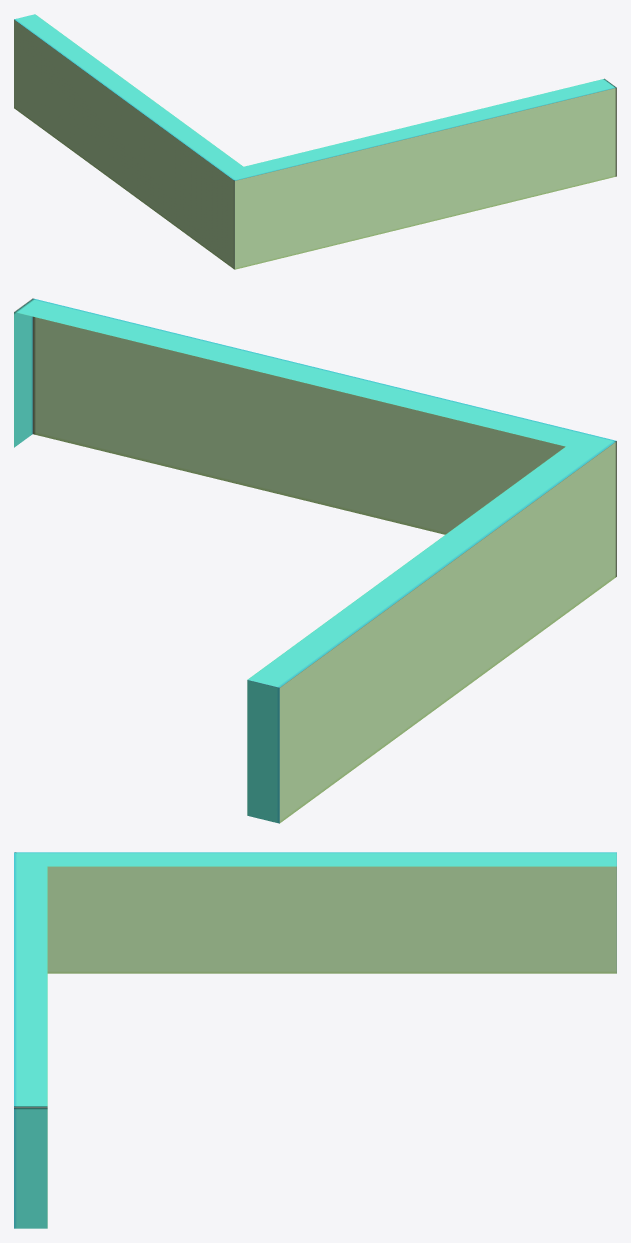
The model's file is MK_Floor_Trim_A_Corner_Out.fbx.
The picture shows the model from 3 angles, top to bottom: view 1: azimuth 30°, elevation 25°; view 2: azimuth 150°, elevation 25°; view 3: azimuth 270°, elevation 25°; orthographic projection. The views are drawn at different scales.
Visible parts, largest first — view 1: Floor_Trim_A_Corner_Out; view 2: Floor_Trim_A_Corner_Out; view 3: Floor_Trim_A_Corner_Out.
Part boxes in pixels (left/top/right/bottom): Floor_Trim_A_Corner_Out: left=14, top=14, right=616, bottom=269; Floor_Trim_A_Corner_Out: left=14, top=298, right=616, bottom=823; Floor_Trim_A_Corner_Out: left=14, top=852, right=616, bottom=1228.
Size of the model in its own units: 203 by 45 by 202.
1 material, 1 textured.
